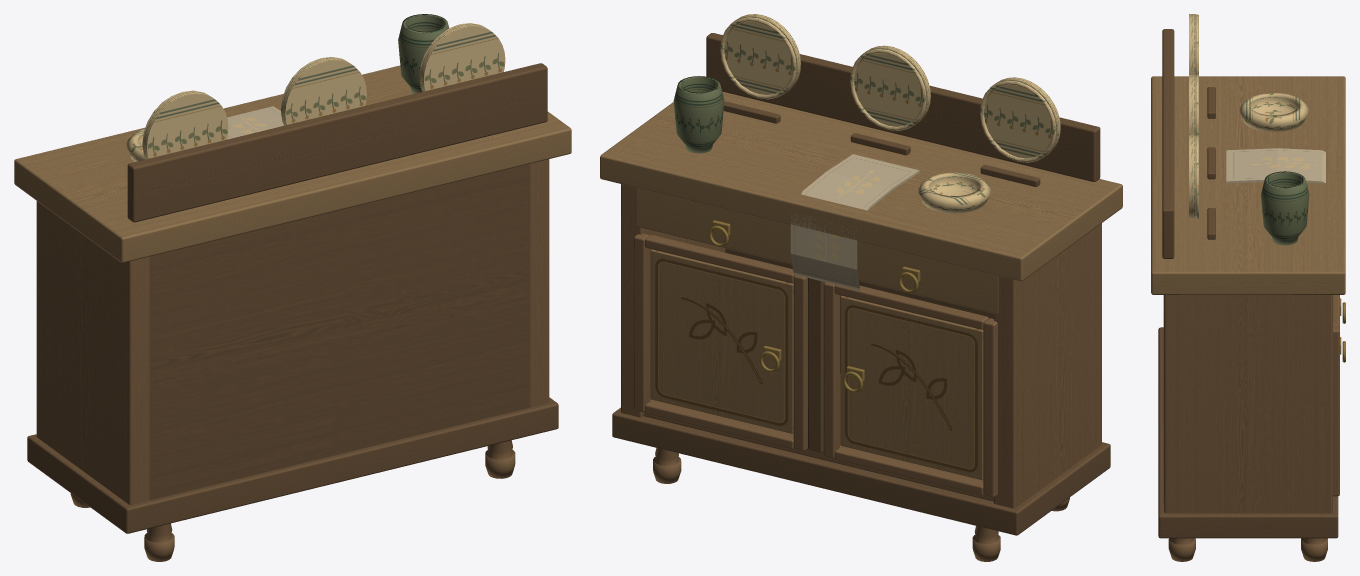
The model's file is aparador.glb.
3 views of the same model, side by side, from view 1: azimuth 30°, elevation 25°; view 2: azimuth 150°, elevation 25°; view 3: azimuth 270°, elevation 25° (orthographic). The views are drawn at different scales.
Visible parts, largest first — view 1: aparador; view 2: aparador; view 3: aparador.
Part boxes in pixels (x1,y1,x2,y2): aparador: (14,14,571,561); aparador: (600,14,1122,561); aparador: (1151,14,1345,561).
Bounding box in the file's own units: 1.27 × 1.22 × 0.5303.
1 material, 1 textured.
